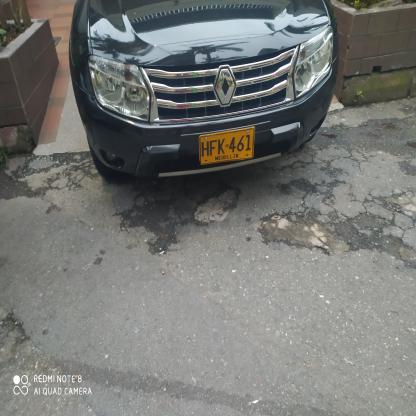placa: (193, 127, 258, 167)
